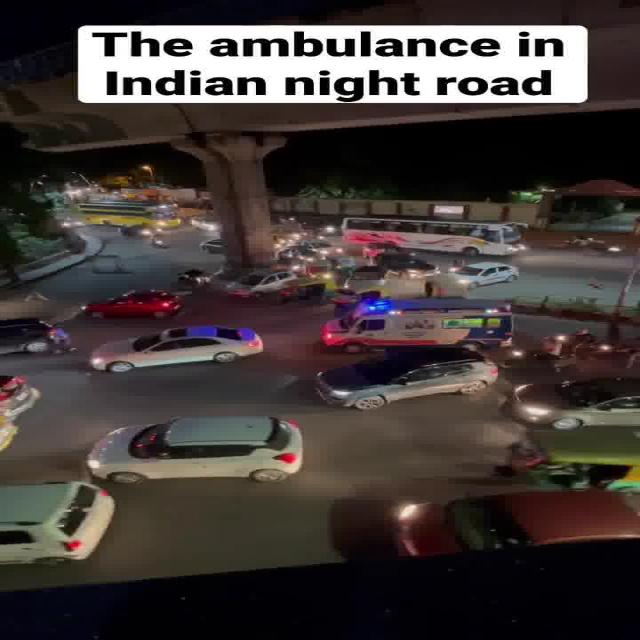ambulance: (312, 284, 520, 348)
